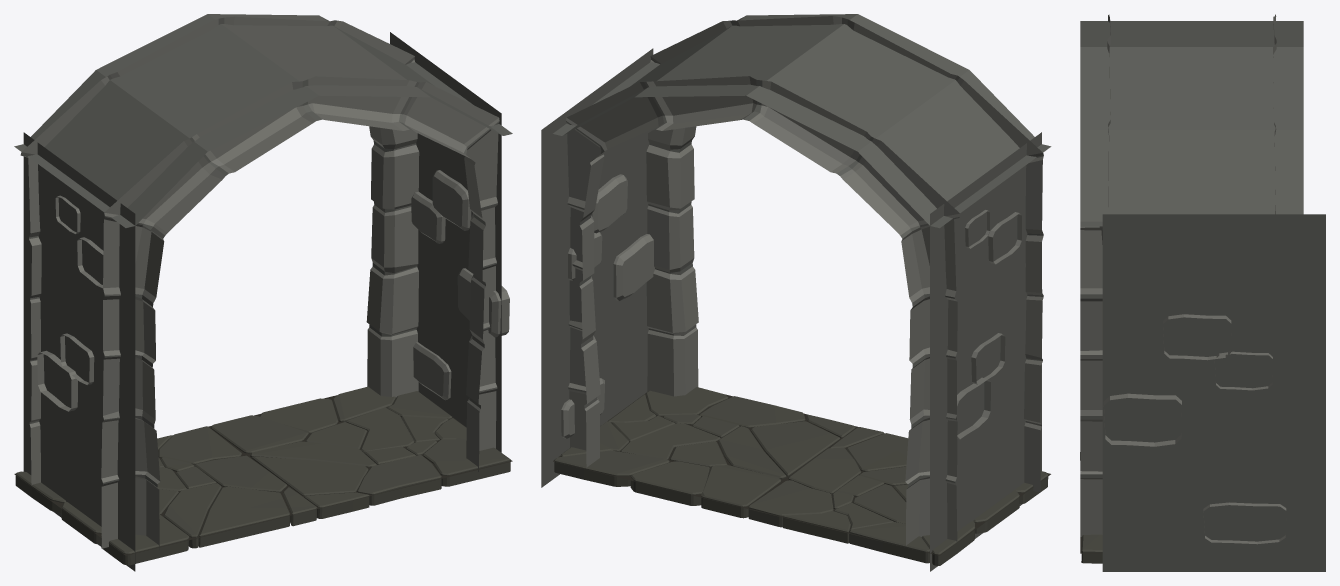
Rendered from Dungeon_Straight_Half.glb.
The picture shows the model from 3 angles, left to right: view 1: azimuth 30°, elevation 25°; view 2: azimuth 150°, elevation 25°; view 3: azimuth 270°, elevation 25°; orthographic projection.
Visible parts, largest first — view 1: Dungeon_Straight_Half; view 2: Dungeon_Straight_Half; view 3: Dungeon_Straight_Half.
Part boxes in pixels (bbox=[...]): Dungeon_Straight_Half: bbox=[14, 14, 512, 571]; Dungeon_Straight_Half: bbox=[541, 14, 1051, 571]; Dungeon_Straight_Half: bbox=[1080, 14, 1325, 571].
Size of the model in its own units: 4.16 by 4.32 by 2.2.
Materials: 2 (2 with a texture image).
